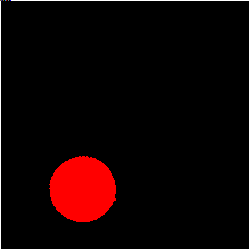stamp: (48, 156, 116, 222)
